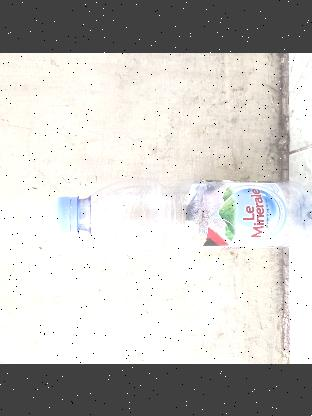Plastic Bottle: (54, 177, 312, 251)
